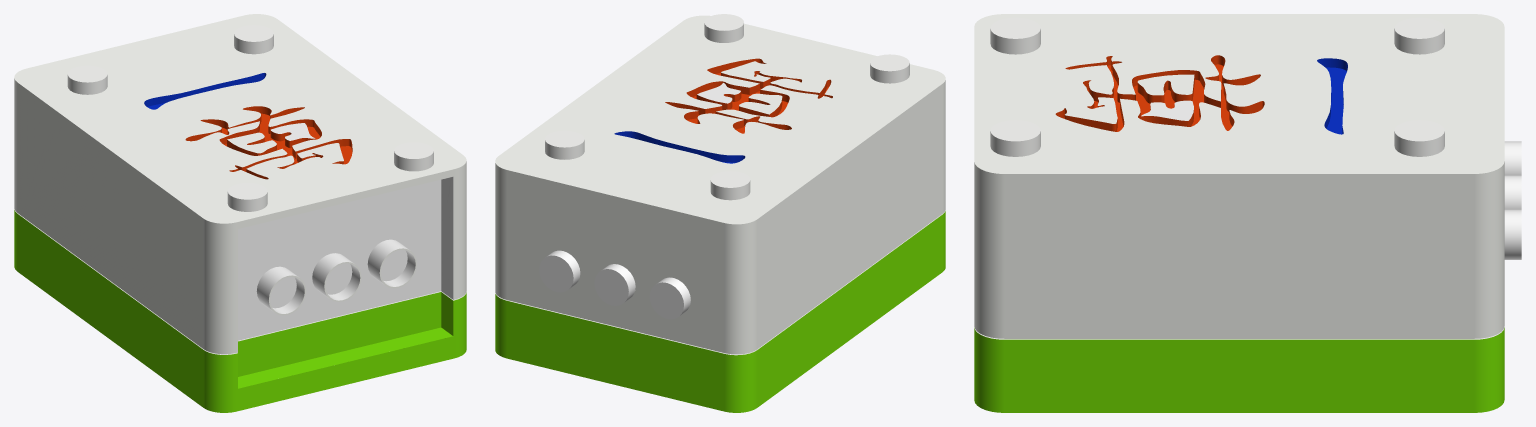
File: tile-one-wan.glb
3 views of the same model, side by side, from view 1: azimuth 30°, elevation 25°; view 2: azimuth 150°, elevation 25°; view 3: azimuth 270°, elevation 25° (orthographic). The views are drawn at different scales.
Size of the model in its own units: 0.0375 by 0.0278 by 0.0542.
